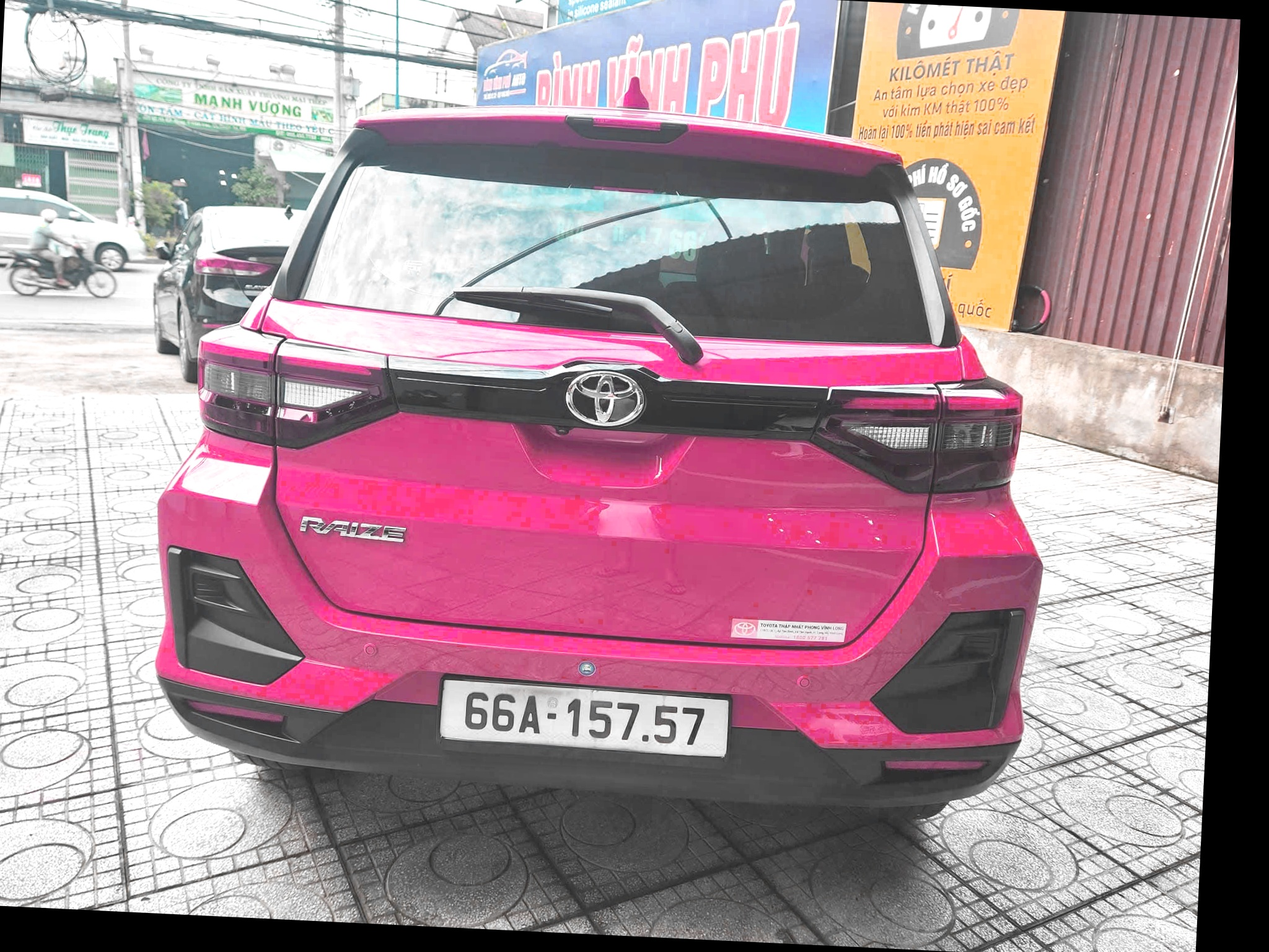Bien-so: (460, 685, 783, 770)
